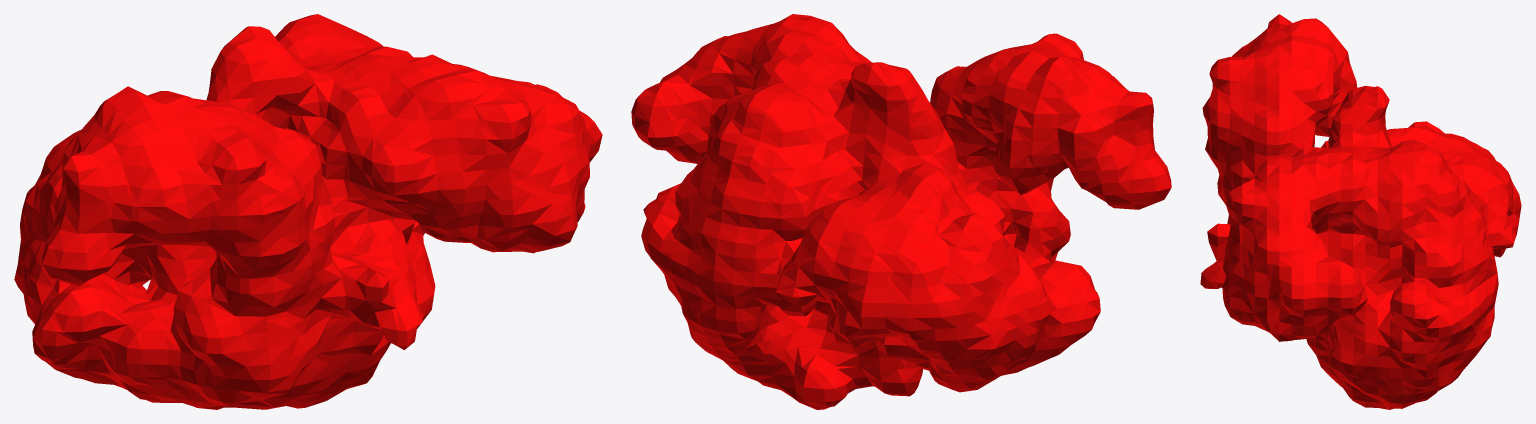
Rendered from Importin_subunit_beta_1_coarse.dae.
3 renders of one model, left to right at view 1: azimuth 30°, elevation 25°; view 2: azimuth 150°, elevation 25°; view 3: azimuth 270°, elevation 25°, orthographic. The views are drawn at different scales.
Parts seen in each view (by area): view 1: Importin_subunit_beta_1; view 2: Importin_subunit_beta_1; view 3: Importin_subunit_beta_1.
Part boxes in pixels (x1,y1,x2,y2): Importin_subunit_beta_1: (14, 14, 602, 409); Importin_subunit_beta_1: (631, 14, 1171, 409); Importin_subunit_beta_1: (1200, 14, 1521, 409).
Size of the model in its own units: 153 by 103 by 99.17.
